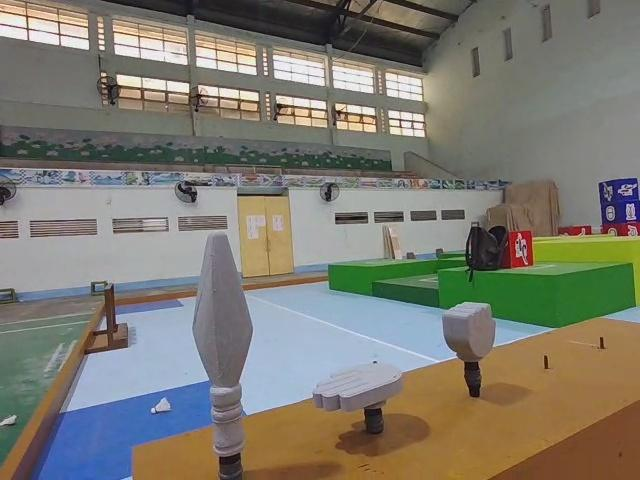Fist: (443, 301, 500, 397)
Hand: (312, 361, 404, 439)
Sph: (185, 227, 249, 475)
